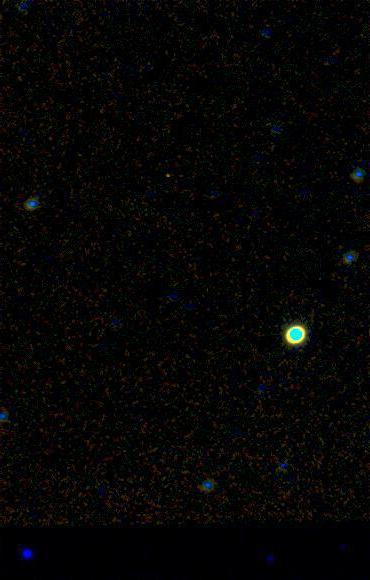star: (156, 161, 186, 191)
